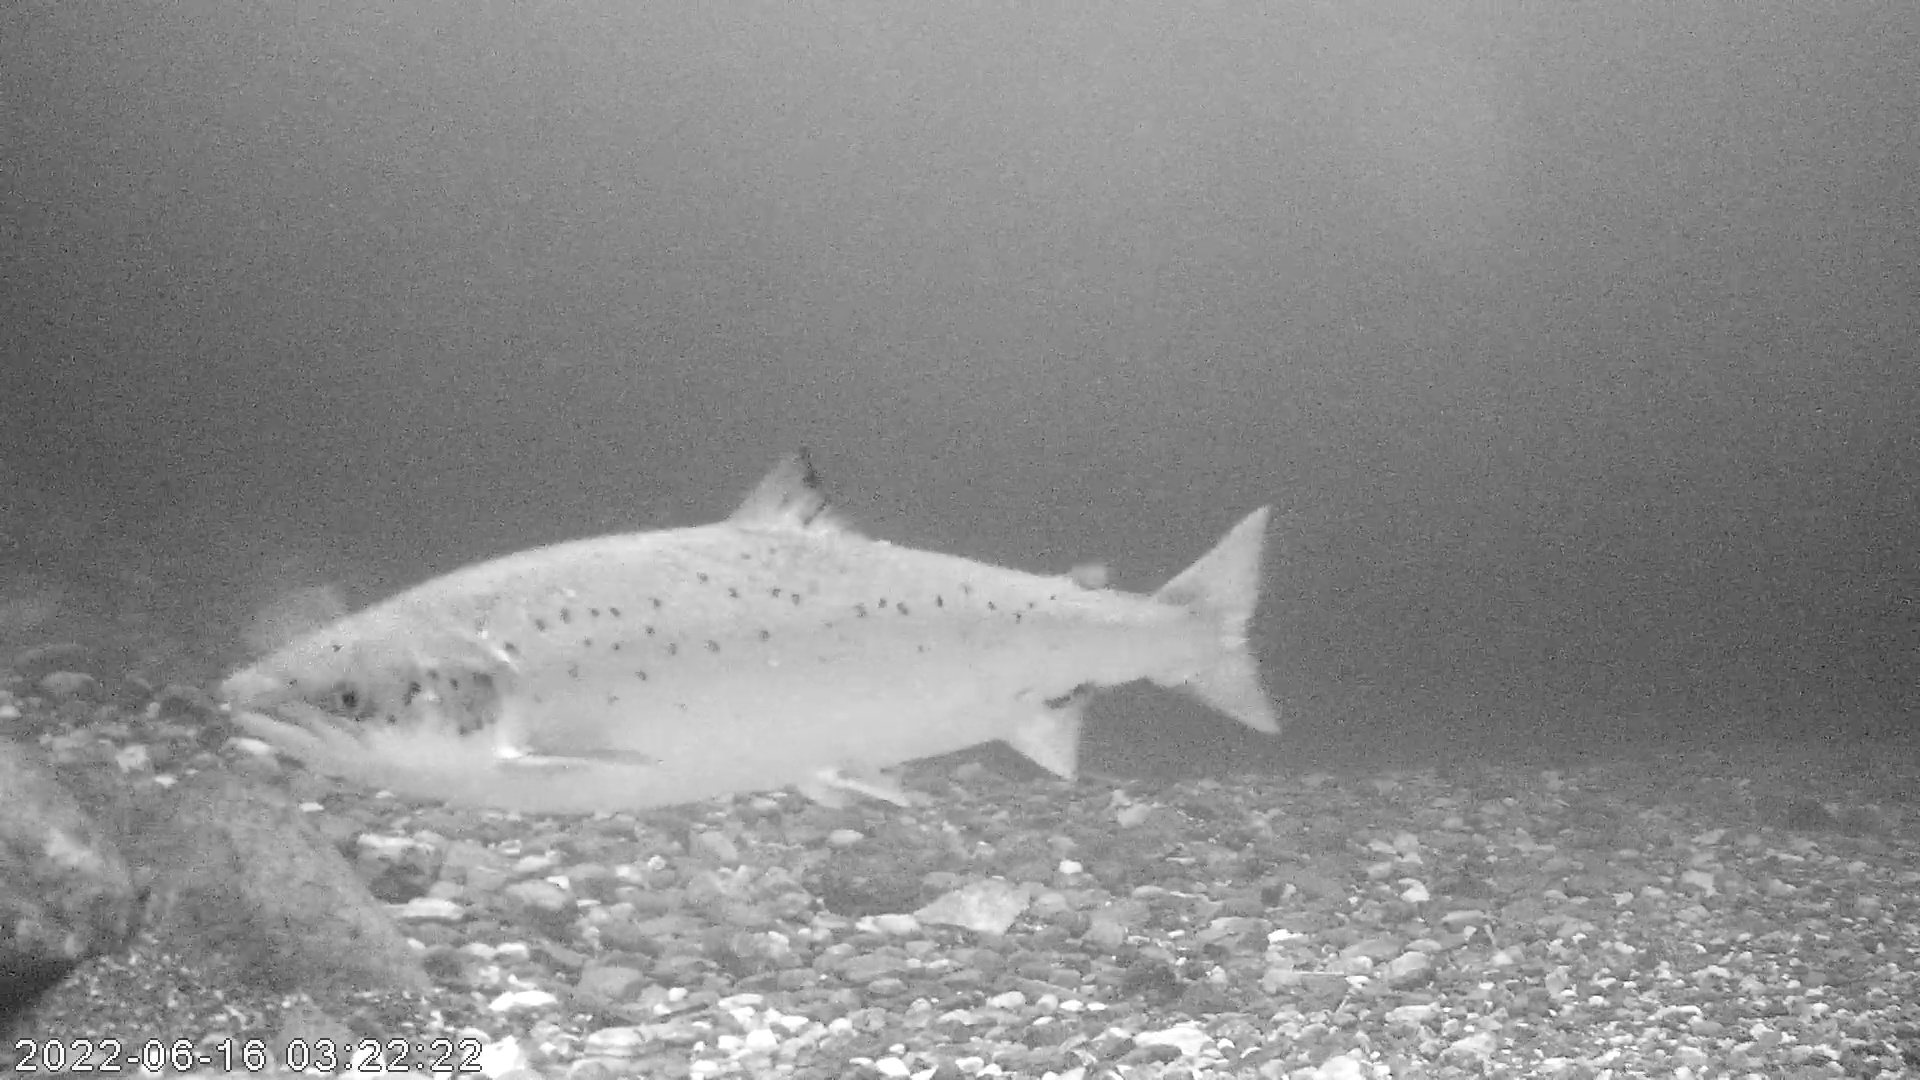salmon: (216, 440, 1280, 818)
